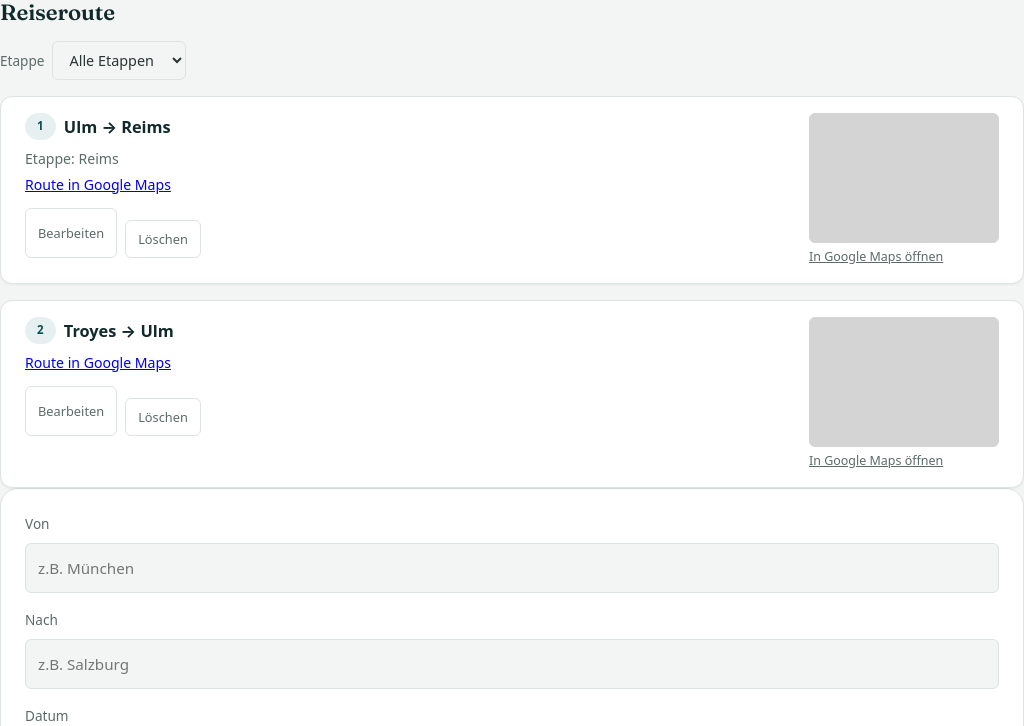
Test: Etappen-Filter im Bereich Reiseroute › Nutzerpfad: Filter zuruecksetzen -> alle Eintraege wieder da, Daten unveraendert
The width and height of the screenshot is (1024, 726).
Expected: the text "Ulm → Reims" is shown, left=64, top=114, right=171, bottom=140
Select "Reims" in the dropdown labelled "Etappe" at point(120, 61), box left=52, top=42, right=186, bottom=80
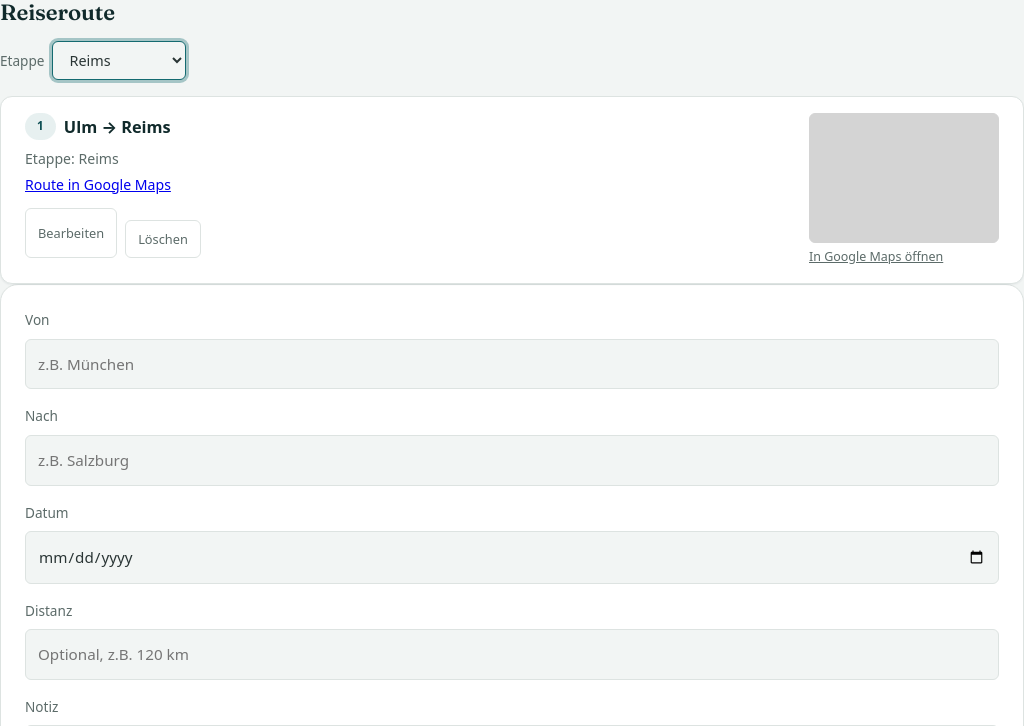
Select "Alle Etappen" in the dropdown labelled "Etappe" at point(120, 61), box left=52, top=42, right=186, bottom=80
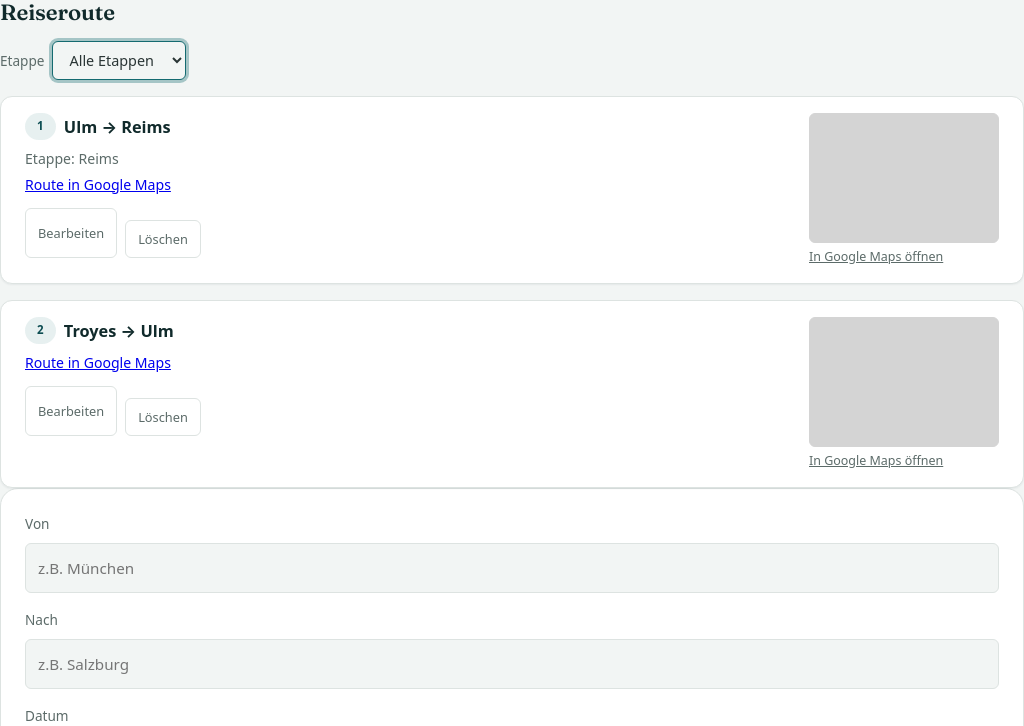
Expected: the text "Ulm → Reims" is shown, left=64, top=114, right=171, bottom=140
Now the text "Troyes → Ulm" is shown, box left=64, top=318, right=174, bottom=344
